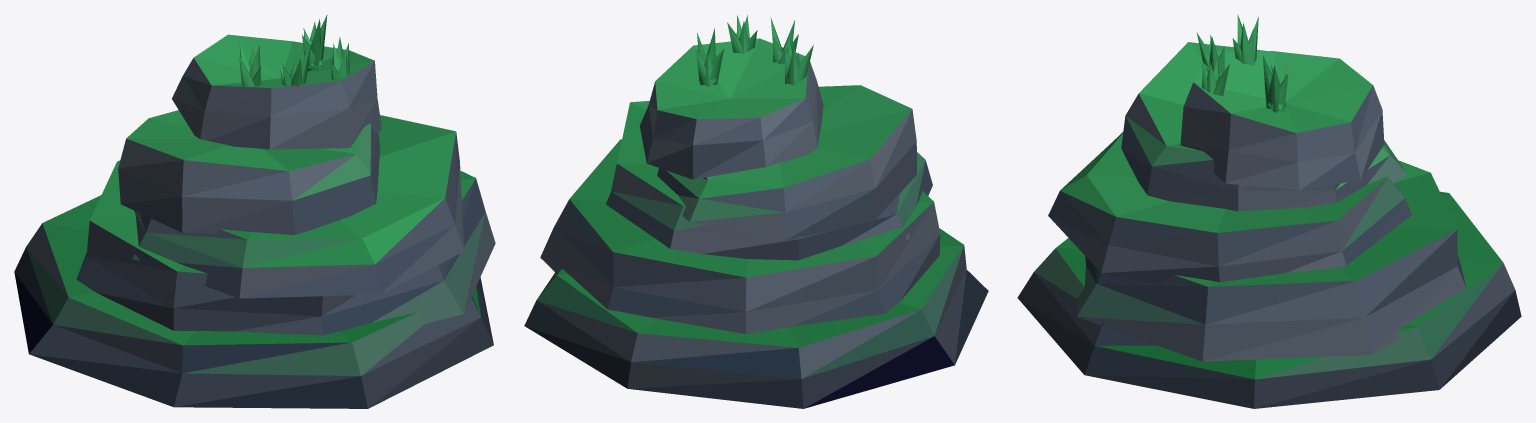
File: batu_slate_granite_287930.glb
3 renders of one model, left to right at view 1: azimuth 30°, elevation 25°; view 2: azimuth 150°, elevation 25°; view 3: azimuth 270°, elevation 25°, orthographic. The views are drawn at different scales.
Visible parts, largest first — view 1: Batu_Pipih_Bertumpuk; view 2: Batu_Pipih_Bertumpuk; view 3: Batu_Pipih_Bertumpuk.
Boxes of the visible parts, box(x1,y1,x2,y2) form: Batu_Pipih_Bertumpuk: box(14, 14, 495, 408); Batu_Pipih_Bertumpuk: box(524, 15, 988, 408); Batu_Pipih_Bertumpuk: box(1017, 14, 1521, 408).
Bounding box in the file's own units: 4.94 × 3.12 × 5.08.
